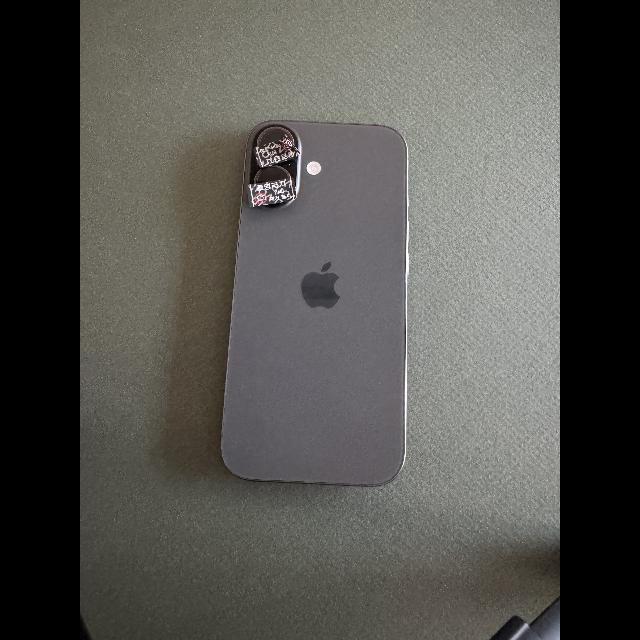lens: (257, 127, 294, 146), (254, 166, 290, 184)
phone: (221, 121, 408, 486)
sticker: (253, 134, 300, 168), (246, 177, 297, 207)
